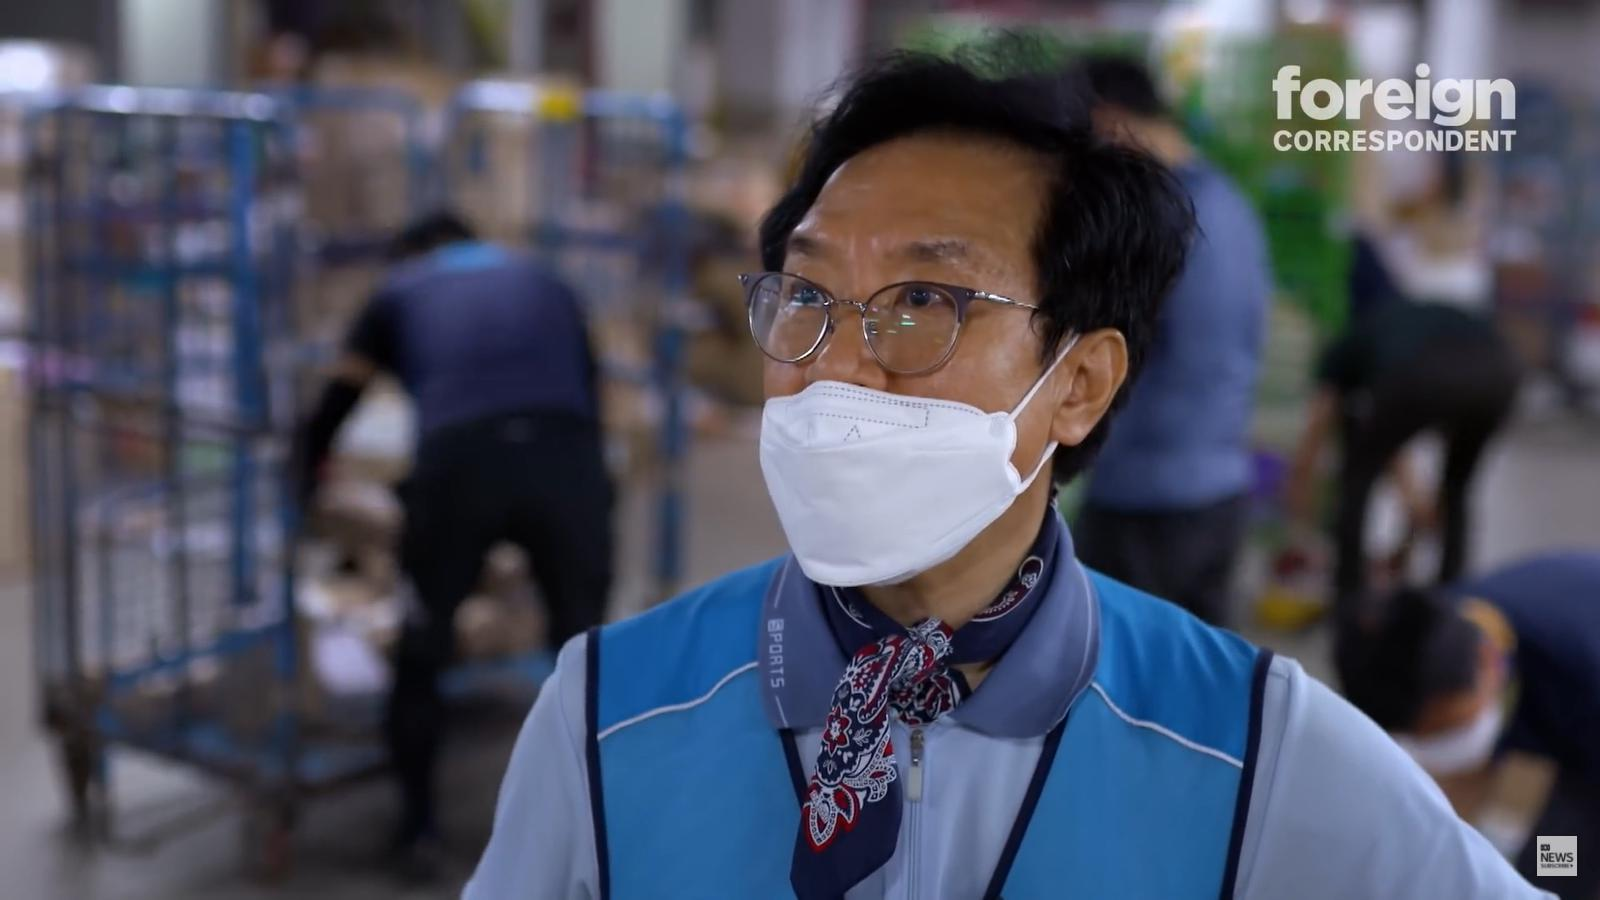with_incorrect_mask: (782, 239, 1002, 550)
